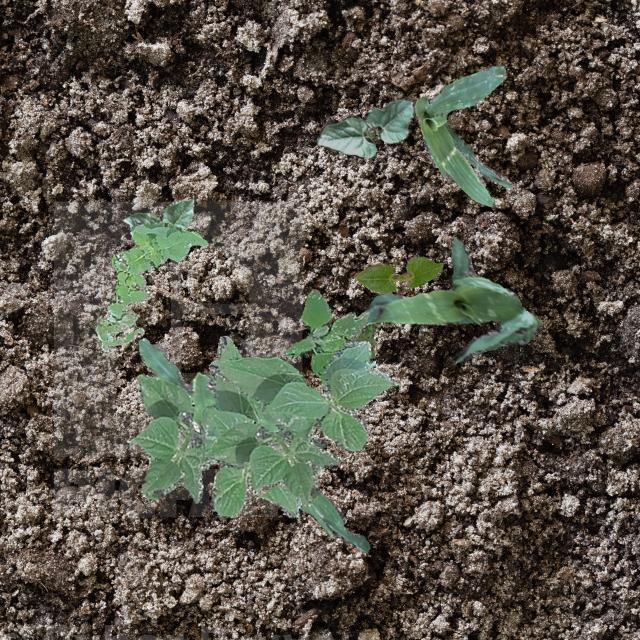crop: (128, 334, 322, 516), (204, 340, 396, 504), (364, 236, 540, 364), (138, 337, 374, 432), (414, 64, 511, 205), (270, 436, 368, 552), (316, 96, 414, 158), (353, 256, 442, 294), (121, 198, 192, 236)
weed: (94, 220, 206, 352), (284, 288, 368, 388), (345, 320, 379, 358)
